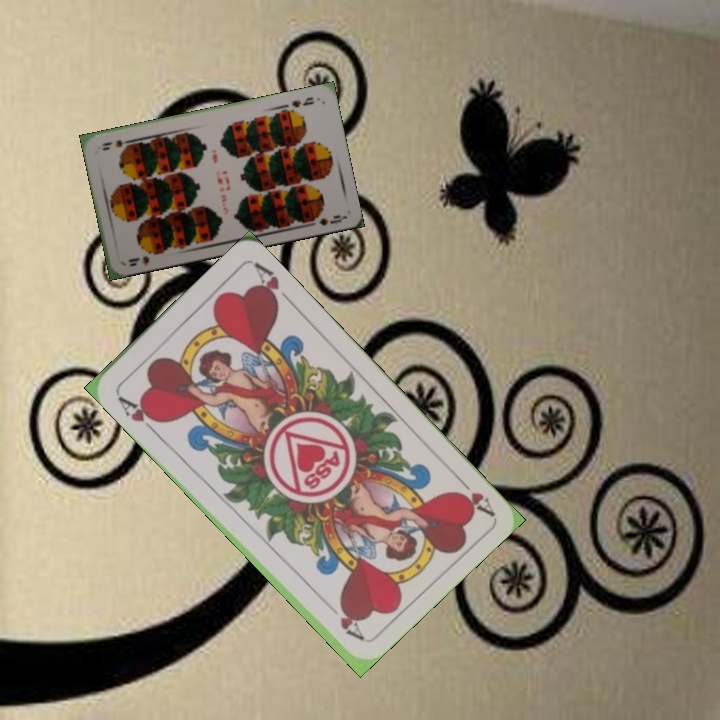HA: (113, 390, 165, 436), (450, 469, 496, 518)
S9: (125, 246, 161, 269), (288, 93, 316, 110)
